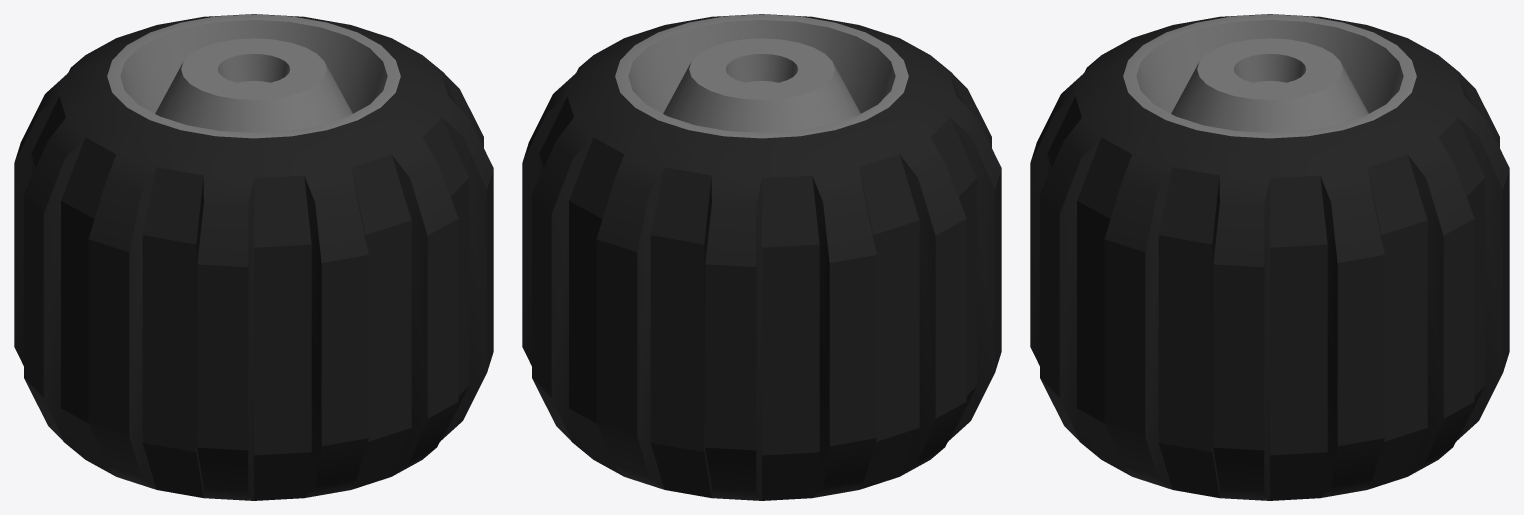
File: wheel.glb
3 renders of one model, left to right at view 1: azimuth 30°, elevation 25°; view 2: azimuth 150°, elevation 25°; view 3: azimuth 270°, elevation 25°, orthographic.
Visible parts, largest first — view 1: FrontWheel_R; view 2: FrontWheel_R; view 3: FrontWheel_R.
Part boxes in pixels (x1,y1,x2,y2): FrontWheel_R: [14, 14, 493, 500]; FrontWheel_R: [522, 14, 1001, 500]; FrontWheel_R: [1030, 14, 1509, 500].
Size of the model in its own units: 1.75 by 1.52 by 1.75.
1 material, 1 textured.
